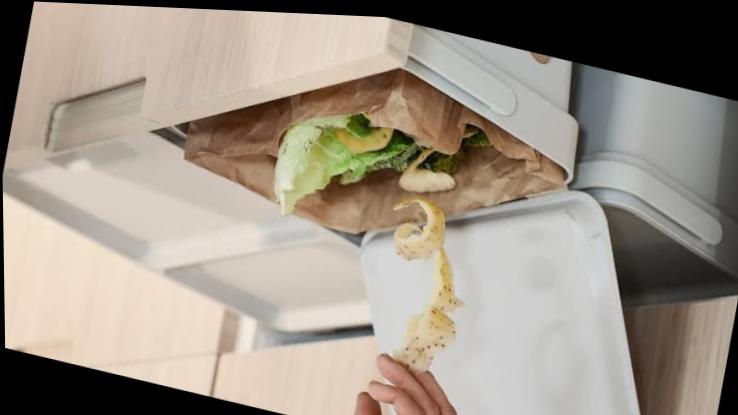organic: (264, 82, 498, 262), (363, 189, 486, 382)
